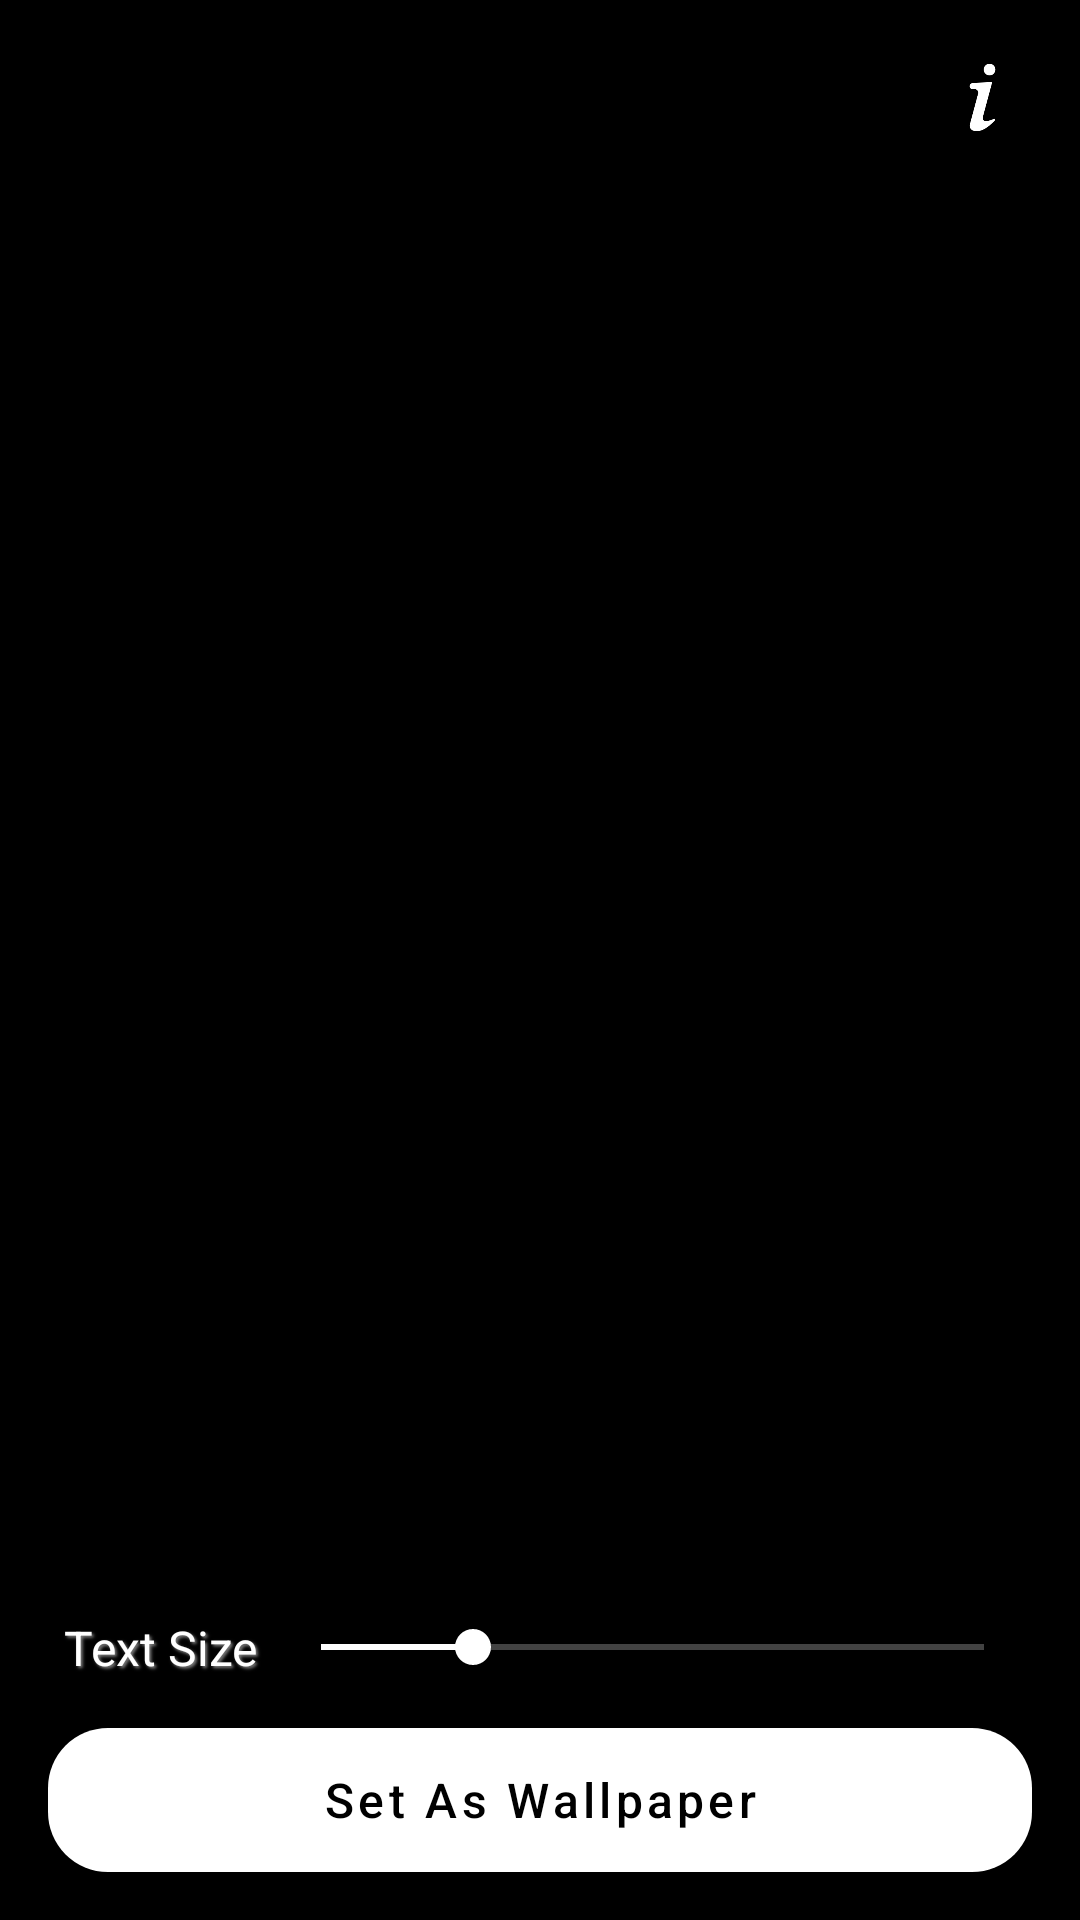

Icon bounding boxes for this 1080w x 1920h phone screenshot, format (x1=x1, y1=y1, x2=x2, y2=y2):
info: (x1=969, y1=64, x2=996, y2=131)
